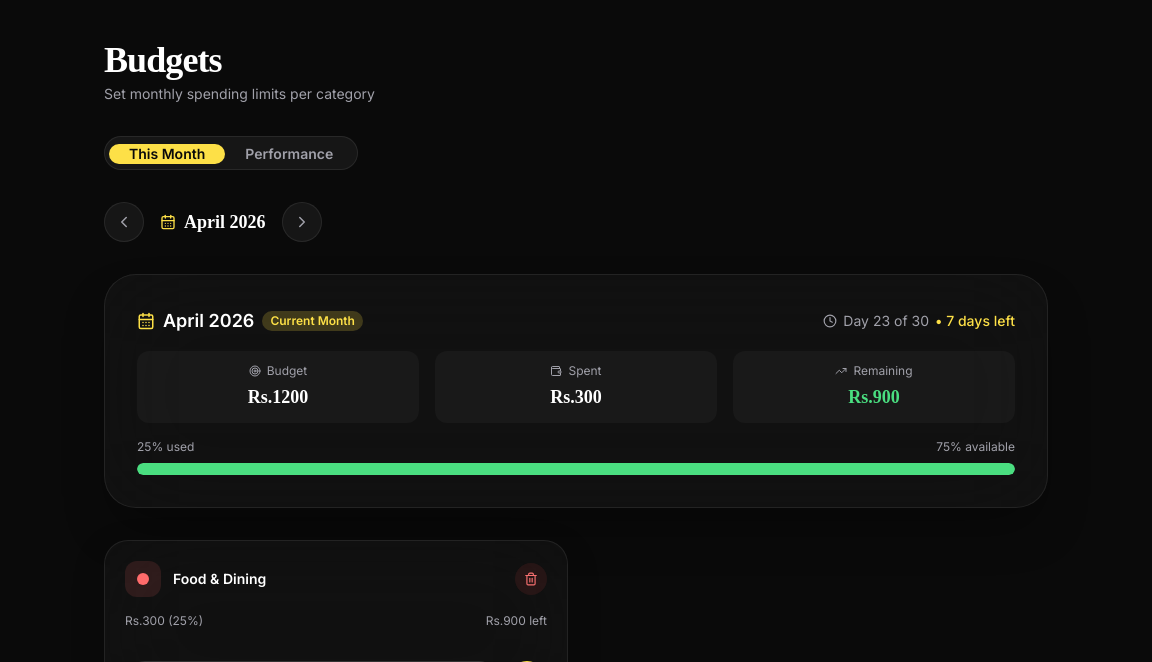
Test: Budgets page regressions › loads performance data when switching to the performance tab
Click the button "Performance": (289, 154) [225,144,353,164]
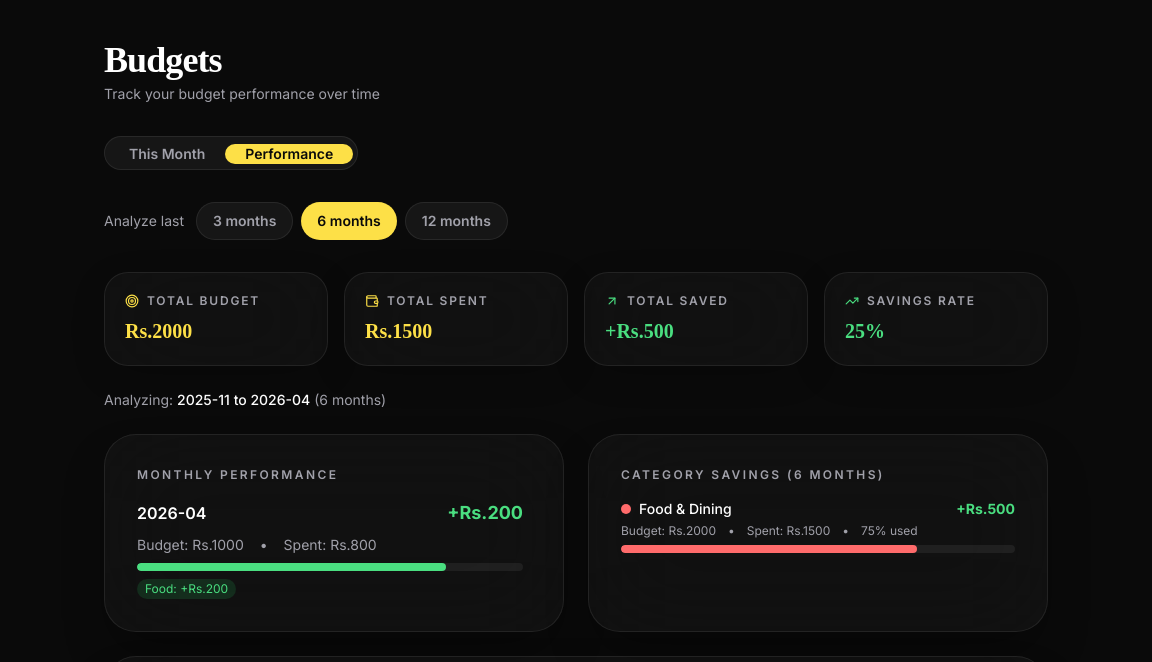
Expected: the text "Analyzing:" is shown, [104,391,177,408]
Expected: the text "Category Savings" is shown, [621,467,794,482]
